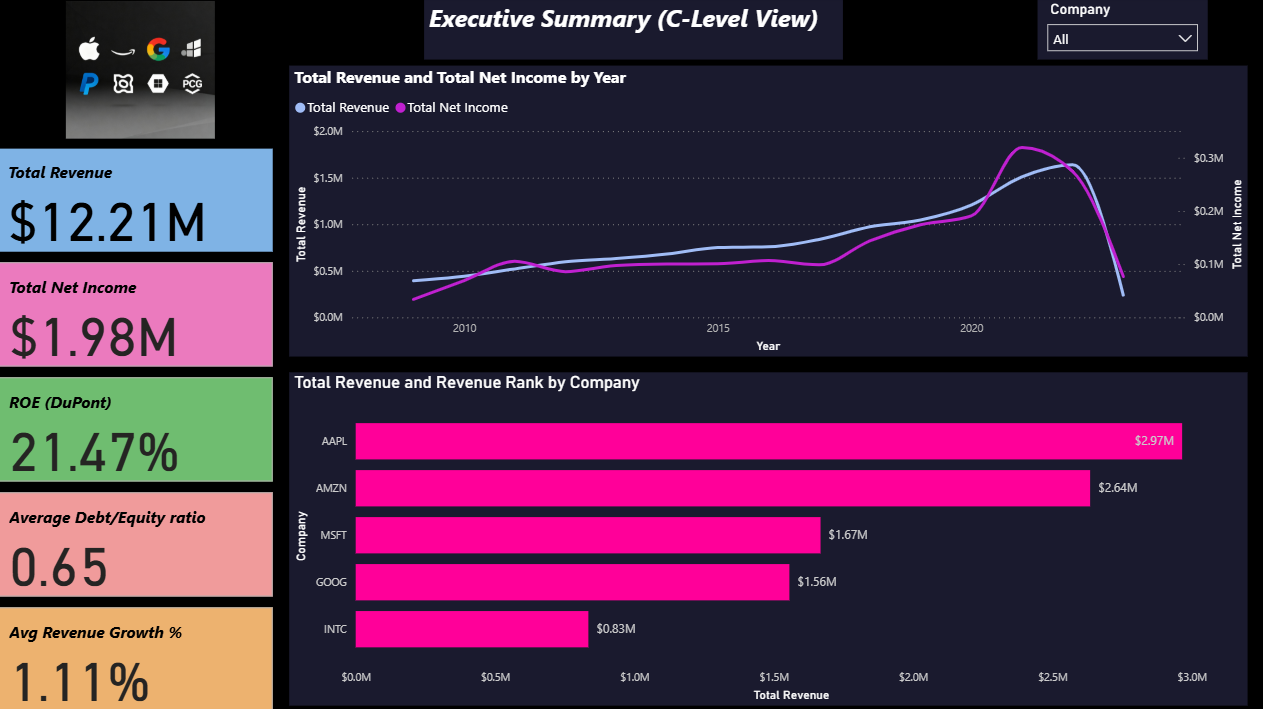

This screenshot's page, from the dashboard's own definition file:
{"tool":"powerbi","page":{"name":"Executive Summary (C-Level View)","canvas":[1280,720],"ordinal":0},"visuals":[{"type":"textbox","box":[431.9,0,417.7,63.7],"z":0},{"type":"cardVisual","fields":{"Data":["Key_Measure.Total Revenue"]},"box":[0,147.3,286,113.3],"z":1000},{"type":"cardVisual","fields":{"Data":["Key_Measure.Total Net Income"]},"box":[0,260.5,286,114.7],"z":2000},{"type":"cardVisual","fields":{"Data":["Key_Measure.ROE (DuPont)"]},"box":[0,375.2,286,114.7],"z":3000},{"type":"cardVisual","fields":{"Data":["Key_Measure.Average Debt/Equity ratio"]},"box":[0,489.9,286,114.7],"z":4000},{"type":"lineChart","title":"Revenue & Profit Trend Over Time","fields":{"Category":["Dim_Date.Year"],"Y":["Key_Measure.Total Revenue"],"Y2":["Key_Measure.Total Net Income"]},"box":[297.3,69.4,955.8,290.3],"z":5000},{"type":"barChart","fields":{"Category":["Dim_Company.Company "],"Y":["Key_Measure.Total Revenue"]},"box":[297.3,375.2,955.8,332.7],"z":6000},{"type":"cardVisual","fields":{"Data":["Key_Measure.Avg Revenue Growth %"]},"box":[0,604.6,286,114.7],"z":7000},{"type":"slicer","fields":{"Values":["Dim_Company.Company "]},"box":[1043.5,0,169.9,63.7],"z":8000},{"type":"image","box":[0,0,297.3,147.3],"z":9000}]}

Visuals, with their boxes in screenshot pixels (x1, y1, x2, y2), scaled from the page's 1280x720 canvas onto the 1263x709 screenshot:
textbox: 426/0/838/63
cardVisual - Key_Measure.Total Revenue: 0/145/282/257
cardVisual - Key_Measure.Total Net Income: 0/257/282/369
cardVisual - Key_Measure.ROE (DuPont): 0/369/282/482
cardVisual - Key_Measure.Average Debt/Equity ratio: 0/482/282/595
"Revenue & Profit Trend Over Time" lineChart: 293/68/1236/354
barChart - Dim_Company.Company  x Key_Measure.Total Revenue: 293/369/1236/697
cardVisual - Key_Measure.Avg Revenue Growth %: 0/595/282/708
slicer - Dim_Company.Company : 1030/0/1197/63
image: 0/0/293/145
